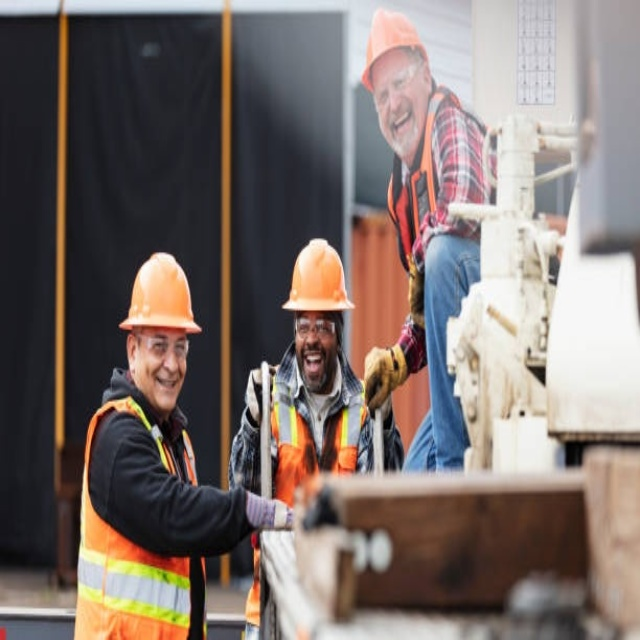Gafas: (374, 58, 423, 114), (136, 333, 191, 361), (295, 317, 337, 339)
Guantes: (360, 331, 410, 417)
Sin_mascara: (389, 103, 416, 149), (300, 345, 325, 384), (151, 368, 176, 405)
